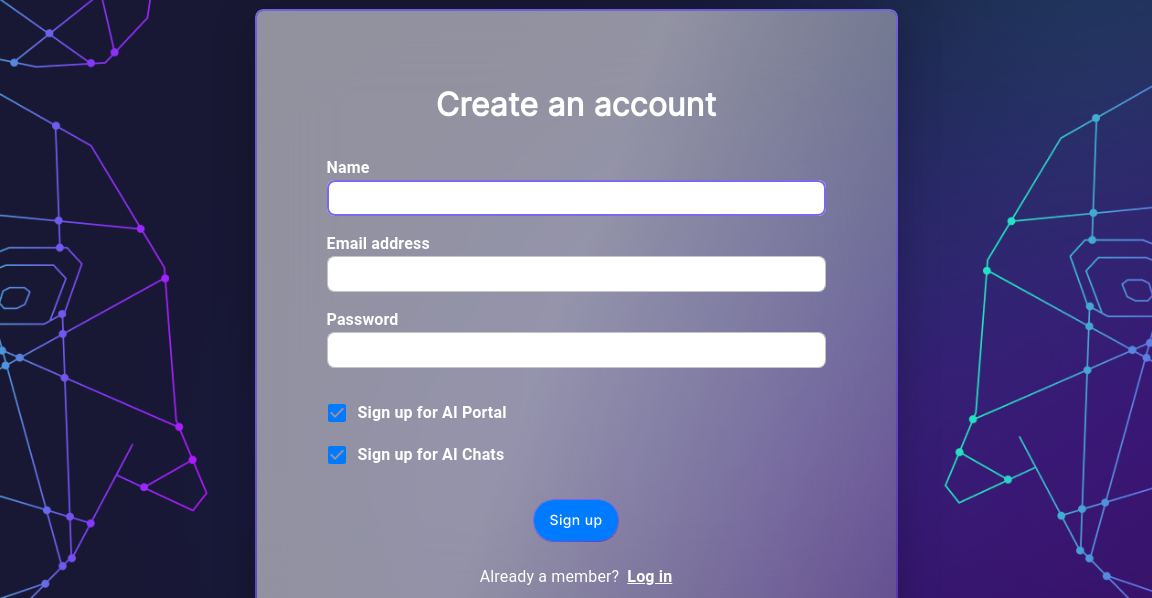
Scenario: Register Component › displays password criteria when password field is focused
This screenshot has width=1152, height=598.
(page scrolled)
// Focus the password field
Focus the password field labelled "Password" at (576,350), box [326, 332, 826, 368]
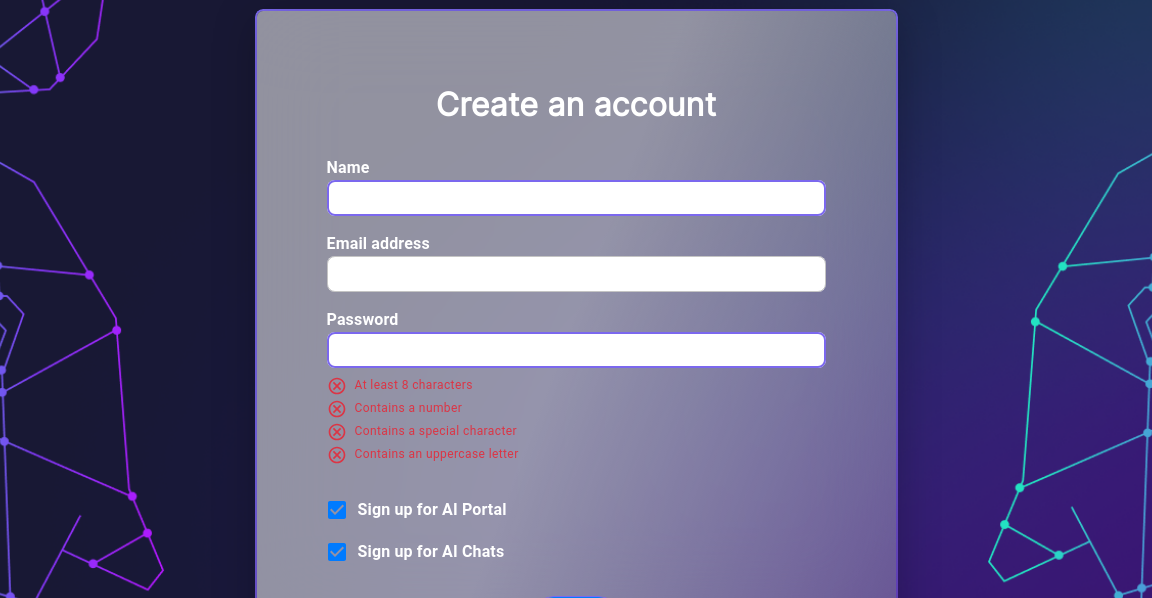
Check: the text "At least 8 characters" is shown, box [326, 376, 473, 396]
Check: the text "Contains a number" is shown, box [326, 399, 462, 419]
Check: the text "Contains a special character" is shown, box [326, 422, 517, 442]
